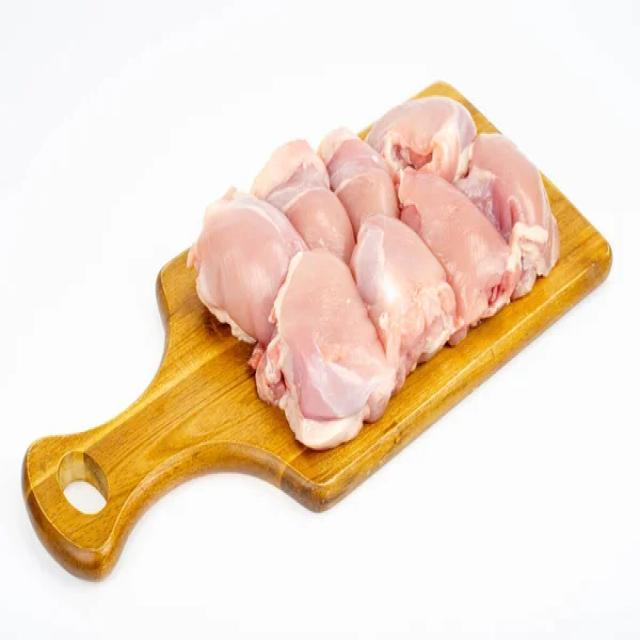thigh: (264, 258, 394, 433), (186, 196, 305, 328)
